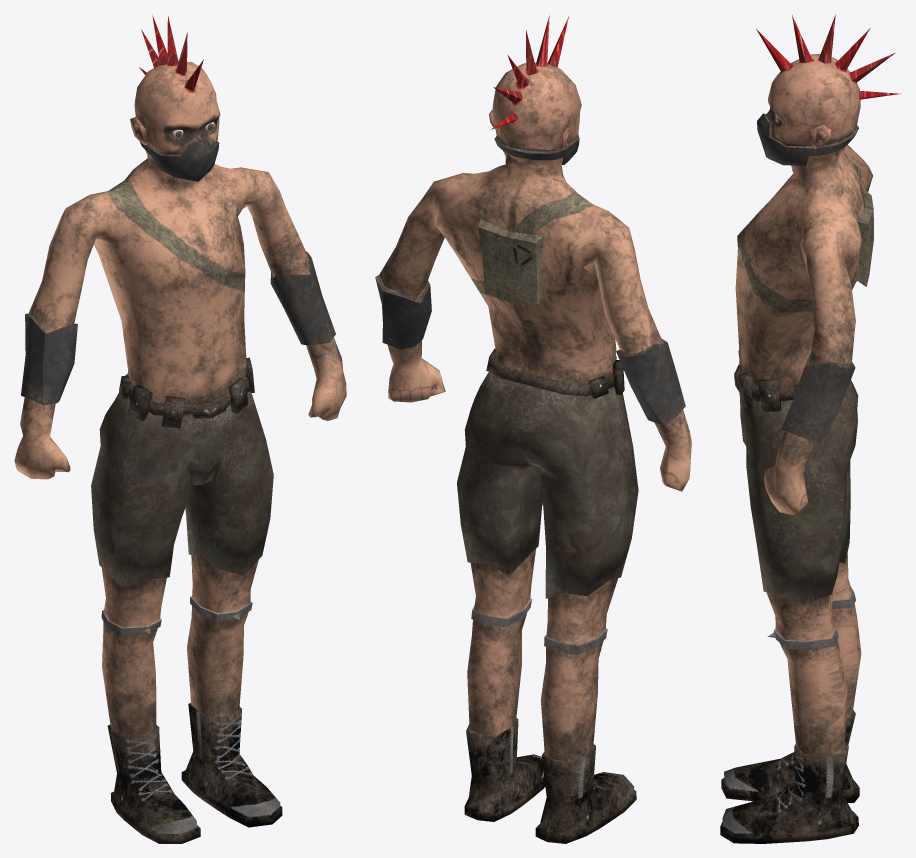
File: Anim_interruptor_npc2.0014.obj
The picture shows the model from 3 angles, left to right: view 1: azimuth 30°, elevation 25°; view 2: azimuth 150°, elevation 25°; view 3: azimuth 270°, elevation 25°; orthographic projection. The views are drawn at different scales.
Parts seen in each view (by area): view 1: polySurface1; view 2: polySurface1; view 3: polySurface1.
Part boxes in pixels (x1,y1,x2,y2): polySurface1: [14, 15, 346, 843]; polySurface1: [375, 15, 691, 843]; polySurface1: [720, 15, 901, 843].
Size of the model in its own units: 4.27 by 10.19 by 2.1.
